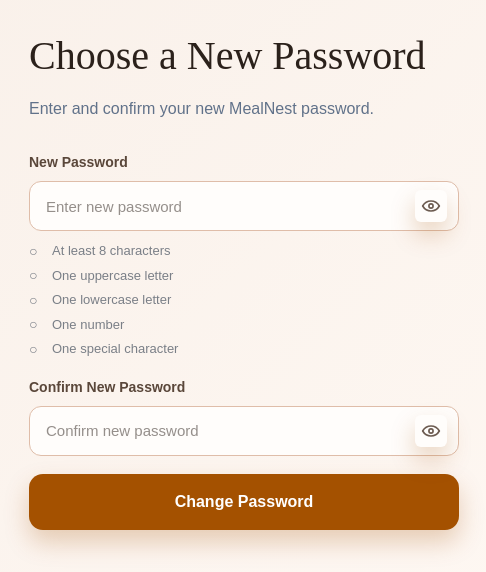
Test case: shows the invalid-link state returned by the backend
Type "NewSecret2@" into the password field labelled "New Password" at (244, 206), box [29,181,459,231]
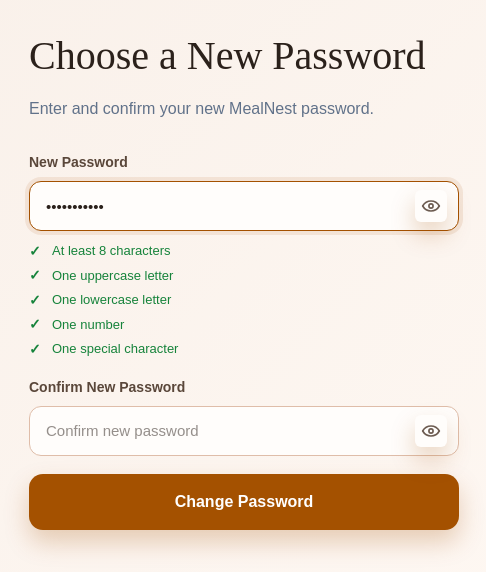
Type "NewSecret2@" into the password field labelled "Confirm New Password" at (244, 430), box [29,406,459,456]
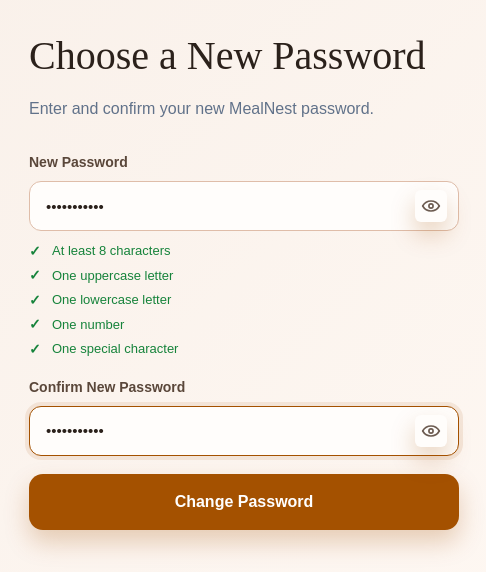
Click the button "Change Password" at (244, 502), box [29,474,459,530]
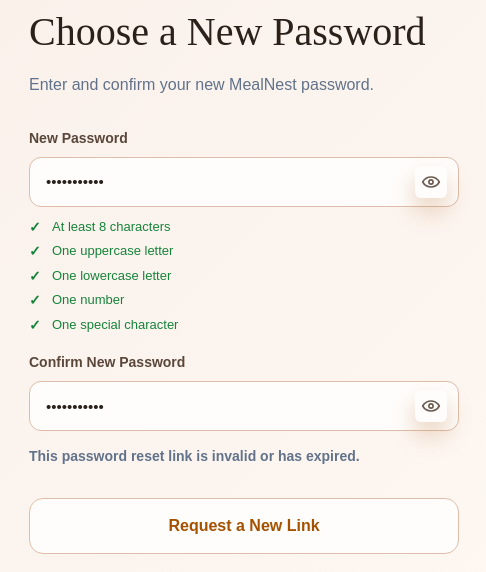
Expected: the message reads "This password reset link is invalid or has expired.", [29,448,360,464]
